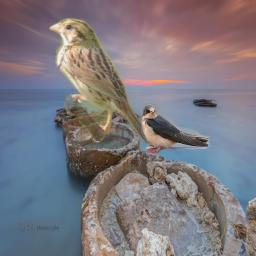Sparrow: (49, 16, 158, 146)
Swallow: (141, 102, 210, 155)
